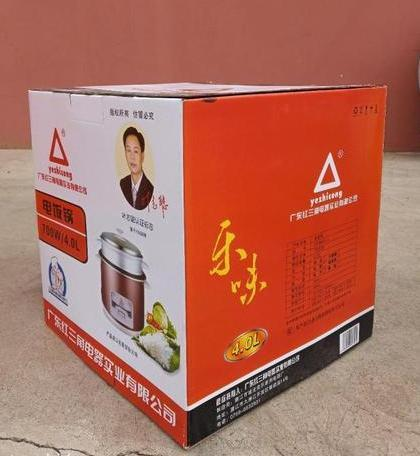metal: (29, 83, 386, 445)
